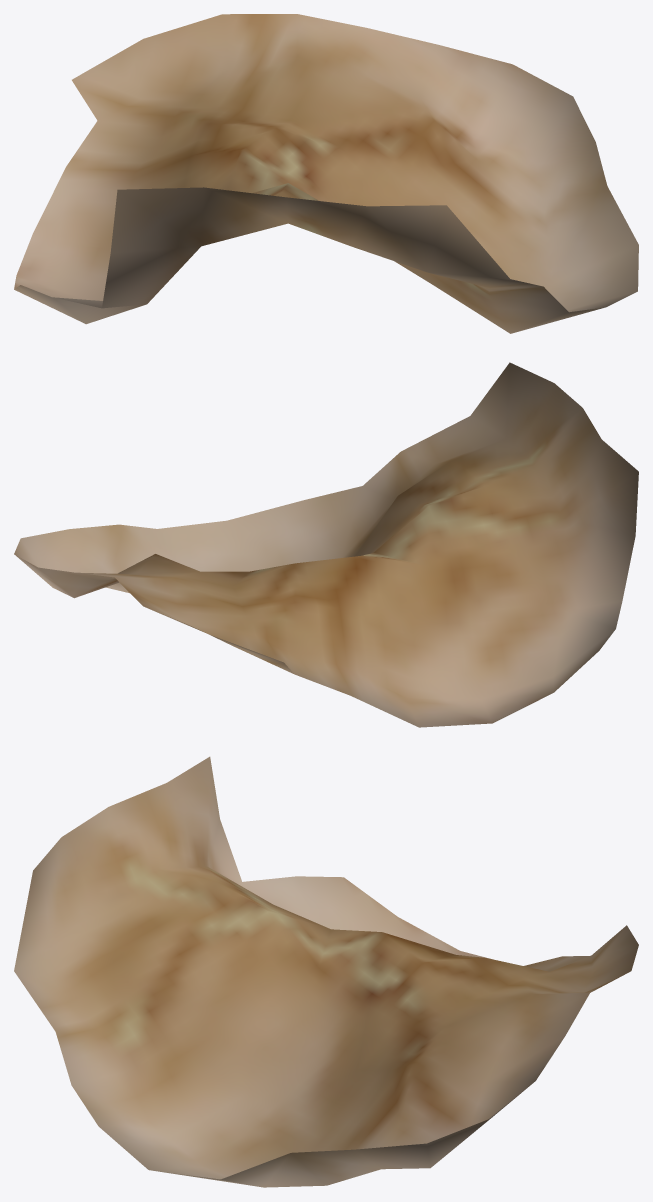
Rendered from tooth-34.glb.
3 views of the same model, one above another, from view 1: azimuth 30°, elevation 25°; view 2: azimuth 150°, elevation 25°; view 3: azimuth 270°, elevation 25° (orthographic). The views are drawn at different scales.
Visible parts, largest first — view 1: teeth_1; view 2: teeth_1; view 3: teeth_1.
Part boxes in pixels (left/top/right/bottom): teeth_1: left=14, top=14, right=638, bottom=333; teeth_1: left=14, top=362, right=638, bottom=727; teeth_1: left=14, top=756, right=638, bottom=1187.
Bounding box in the file's own units: 0.0192 × 0.00709 × 0.0183.
Materials: 1 (1 with a texture image).
